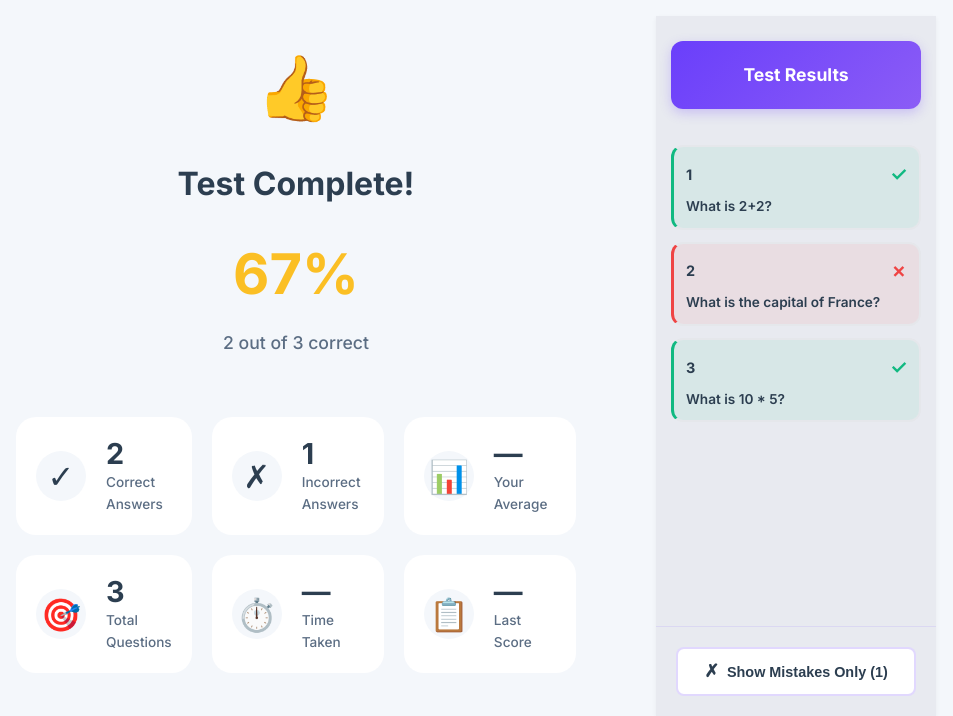
Test: TestResultsPage › toggles mistakes filter when filter button is clicked
The image size is (953, 716).
Click the button "✗ Show Mistakes Only (1)": (796, 672) x1=676 y1=647 x2=916 y2=696
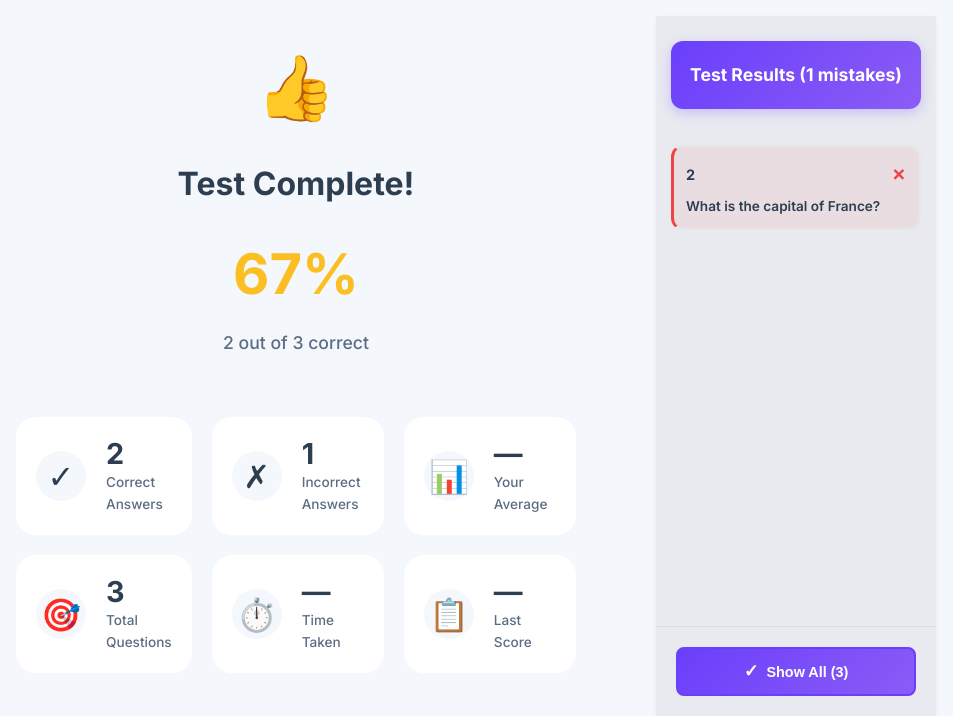
Result: the button "✓ Show All (3)" is shown at x1=676 y1=647 x2=916 y2=696
